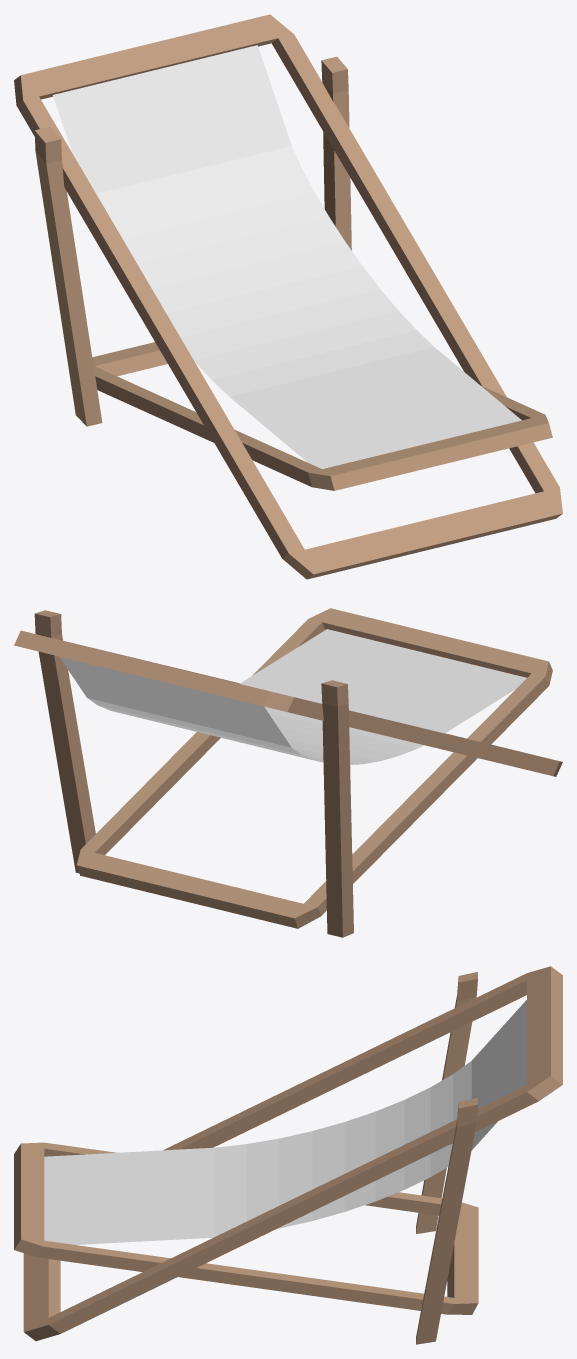
File: sling_chair_03.fbx
3 renders of one model, top to bottom at view 1: azimuth 30°, elevation 25°; view 2: azimuth 150°, elevation 25°; view 3: azimuth 270°, elevation 25°, orthographic. The views are drawn at different scales.
Parts seen in each view (by area): view 1: Cube.004; view 2: Cube.004; view 3: Cube.004.
Boxes of the visible parts, left/top/right/bottom form: Cube.004: left=14, top=14, right=562, bottom=579; Cube.004: left=14, top=608, right=562, bottom=937; Cube.004: left=14, top=966, right=562, bottom=1344.
Size of the model in its own units: 125 by 116 by 218.
